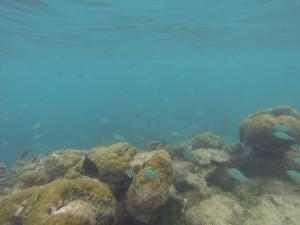bleached_corals: (0, 178, 115, 225), (123, 148, 185, 225)
